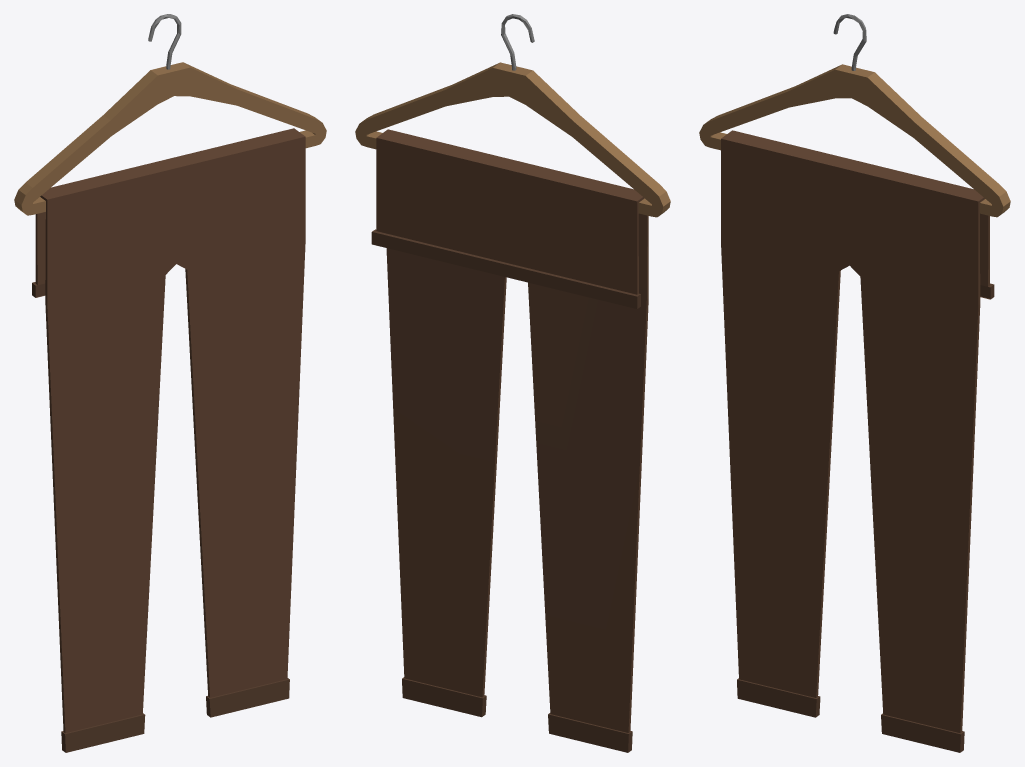
File: Clothes5_C3.fbx
3 renders of one model, left to right at view 1: azimuth 30°, elevation 25°; view 2: azimuth 150°, elevation 25°; view 3: azimuth 330°, elevation 25°, orthographic.
Visible parts, largest first — view 1: Clothes5_C3; view 2: Clothes5_C3; view 3: Clothes5_C3.
Part boxes in pixels (left/top/right/bottom): Clothes5_C3: left=14, top=14, right=326, bottom=752; Clothes5_C3: left=355, top=14, right=670, bottom=752; Clothes5_C3: left=699, top=14, right=1010, bottom=752.
Size of the model in its own units: 42.14 by 93.33 by 3.43.
